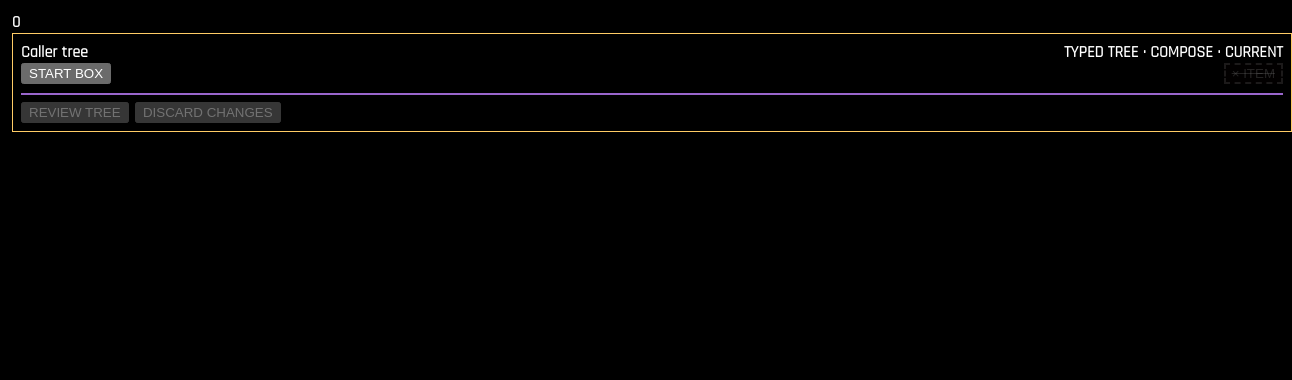
composes and reviews the same tree locally, then commits one group interaction
Click the button "START BOX".
click(66, 74)  # box [21,63,111,84]
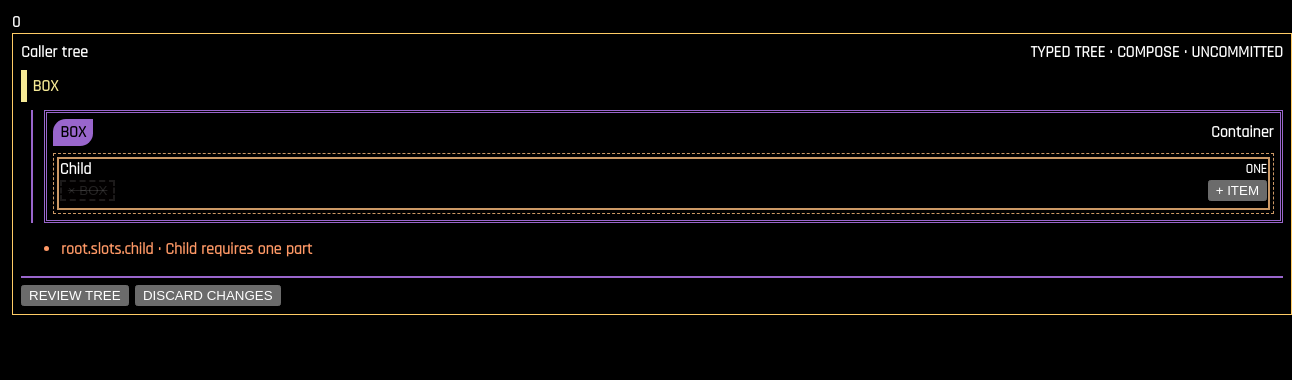
Click the button "+ ITEM".
click(1237, 191)  # box [1208,180,1267,201]
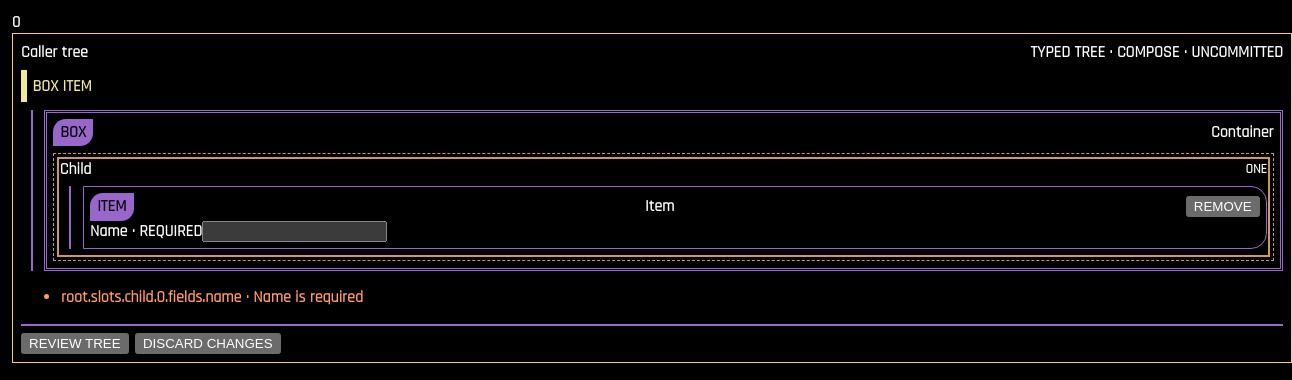
Type "alpha" into the field labelled "Name · REQUIRED".
click(295, 231); type("alpha")  # box [202,221,387,242]
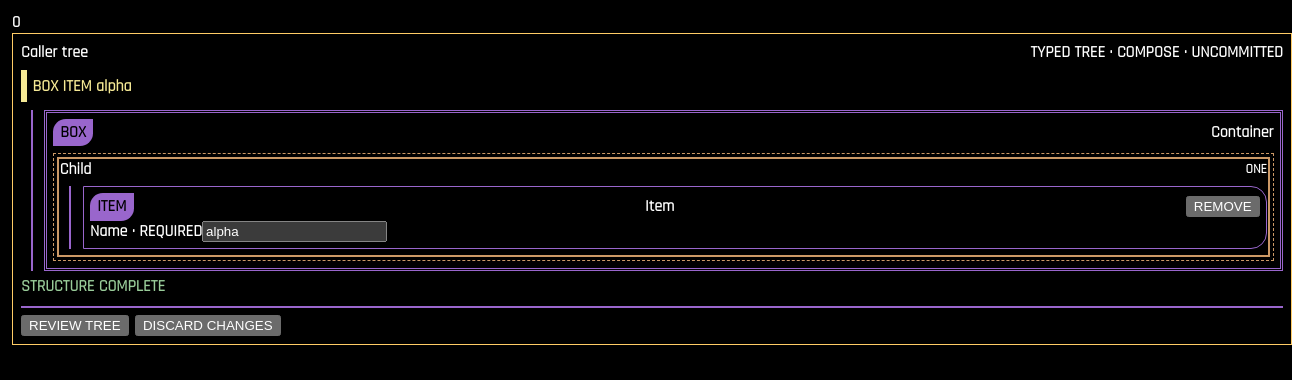
Expected: the text named "Interaction count" reads "0", [12,12,20,33]
Expected: the text named "Generated structural preview" reads "BOX ITEM alpha", [33,76,132,97]
Click the button "REVIEW TREE".
click(75, 326)  # box [21,315,129,336]
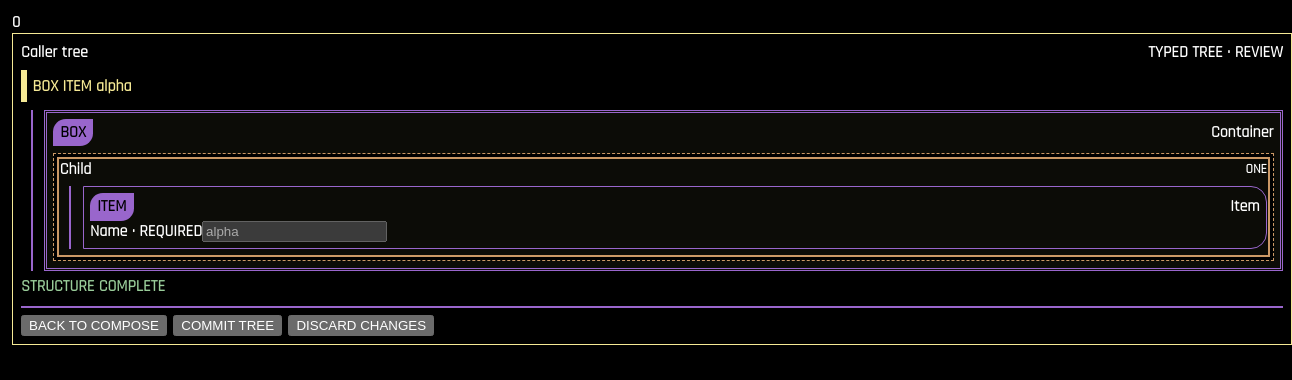
Expected: the text named "Interaction count" reads "0", [12,12,20,33]
Expected: the button "COMMIT TREE" is enabled
Expected: the field labelled "Name · REQUIRED" is disabled, [202,221,387,242]
Click the button "COMMIT TREE".
click(228, 326)  # box [173,315,282,336]
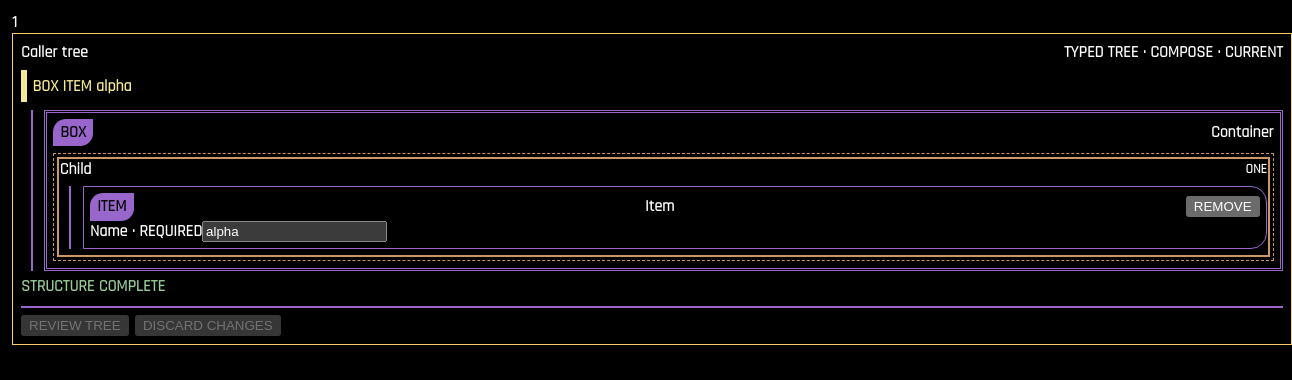
Expected: the text named "Interaction count" reads "1", [12,12,17,33]
Expected: the text "TYPED TREE · COMPOSE · CURRENT" is shown, [1064,42,1283,63]
Expected: the button "REVIEW TREE" is disabled, [21,315,129,336]
